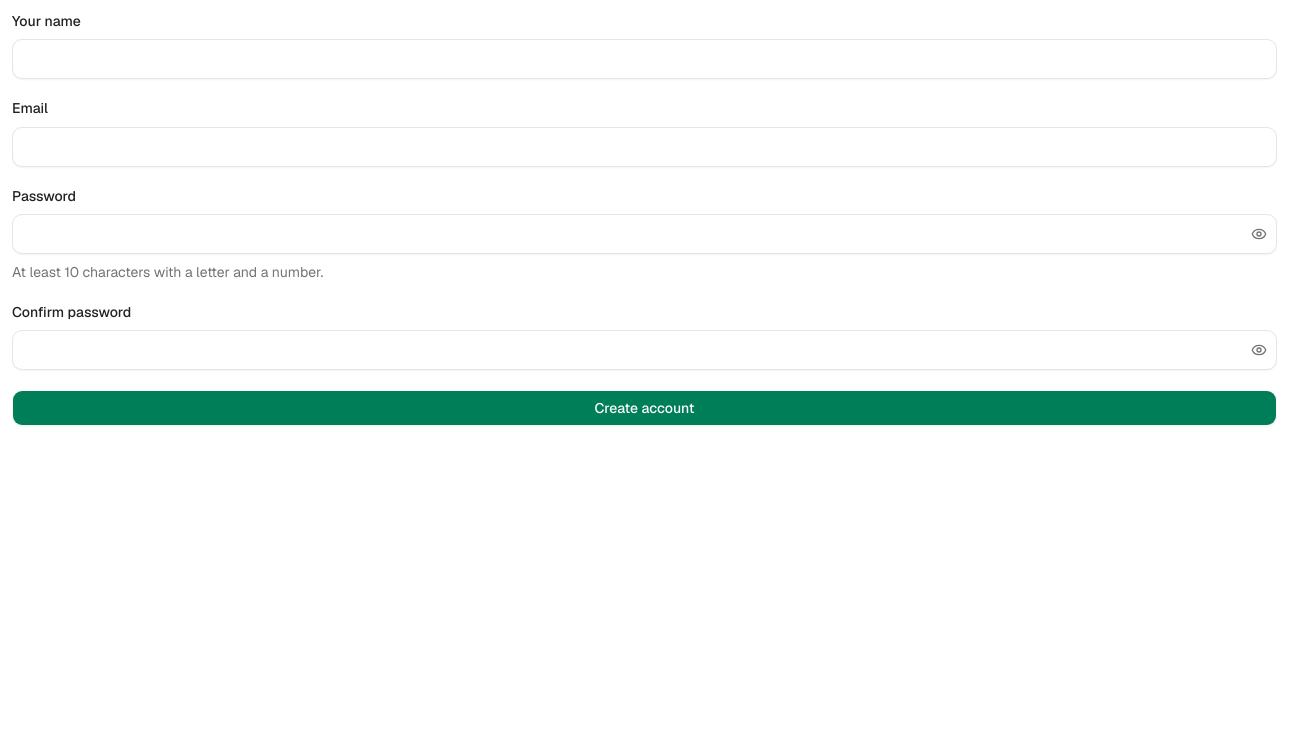
SignupForm rate limiting › shows a countdown and disables the button when rate limited
Type "Asha" into the field labelled "Your name".
click(644, 59); type("Asha")  # box [12, 39, 1277, 79]
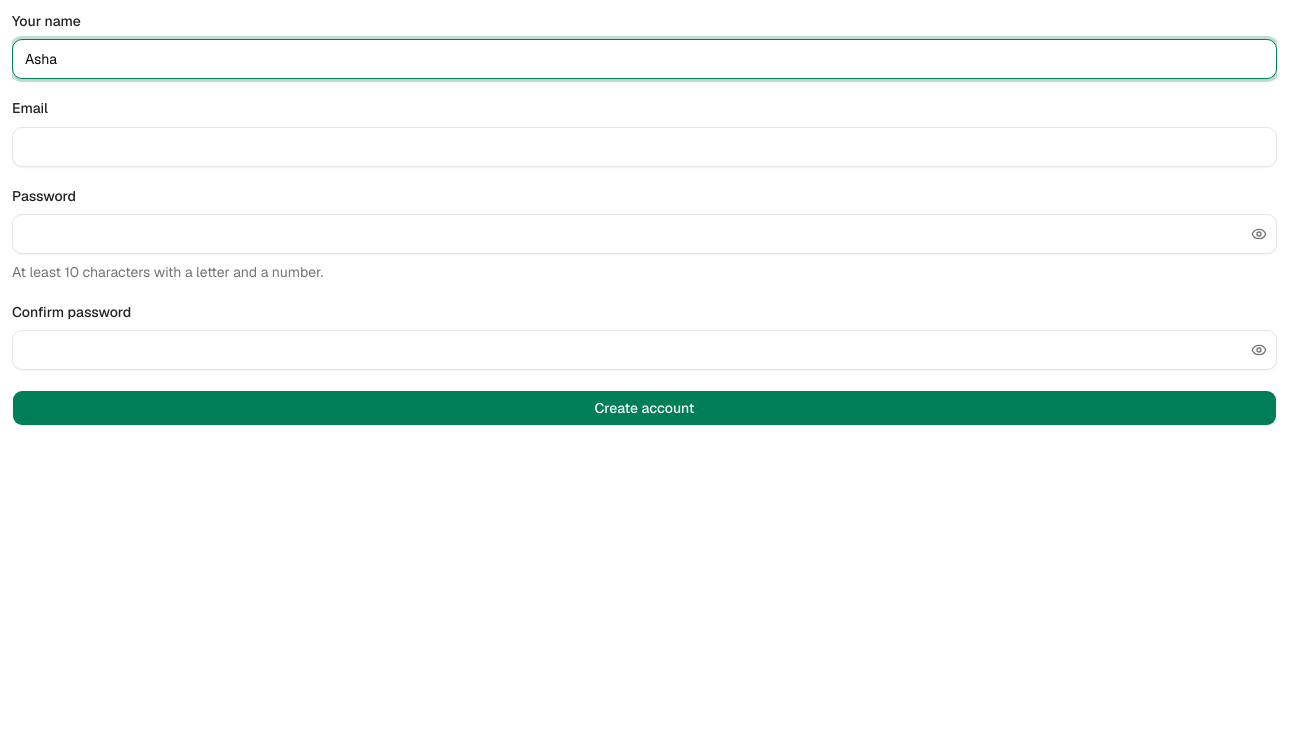
Type "asha@example.com" into the field labelled "Email".
click(644, 146); type("asha@example.com")  # box [12, 126, 1277, 166]
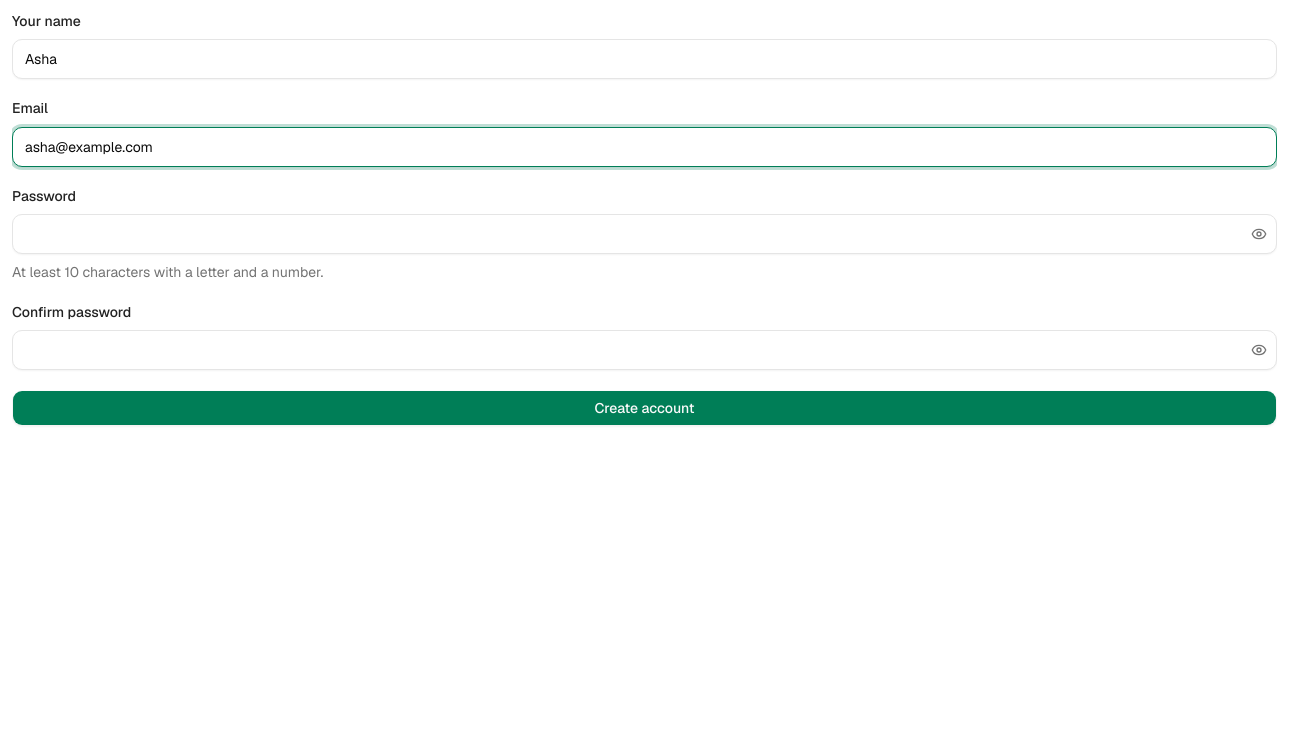
Type "paisa-track-2026" into the password field labelled "Password".
click(644, 234); type("paisa-track-2026")  # box [12, 214, 1277, 254]
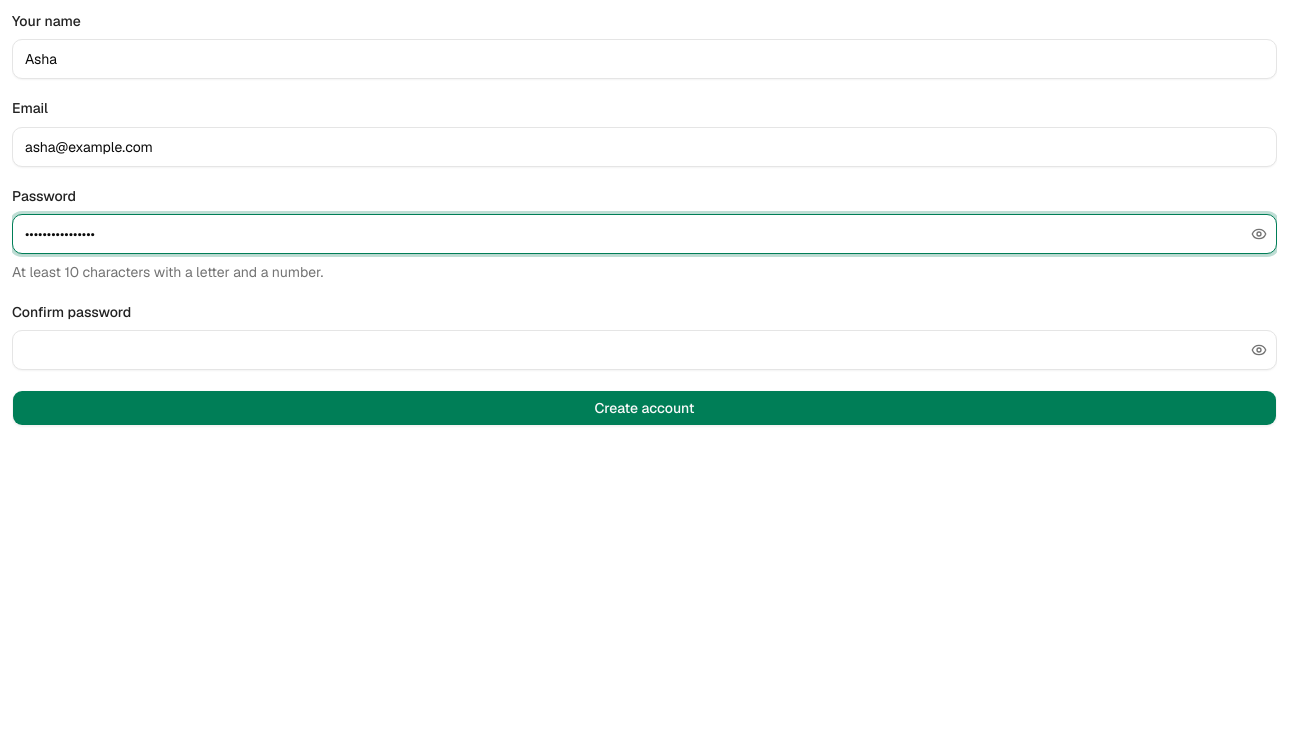
Type "paisa-track-2026" into the password field labelled "Confirm password".
click(644, 350); type("paisa-track-2026")  # box [12, 330, 1277, 370]
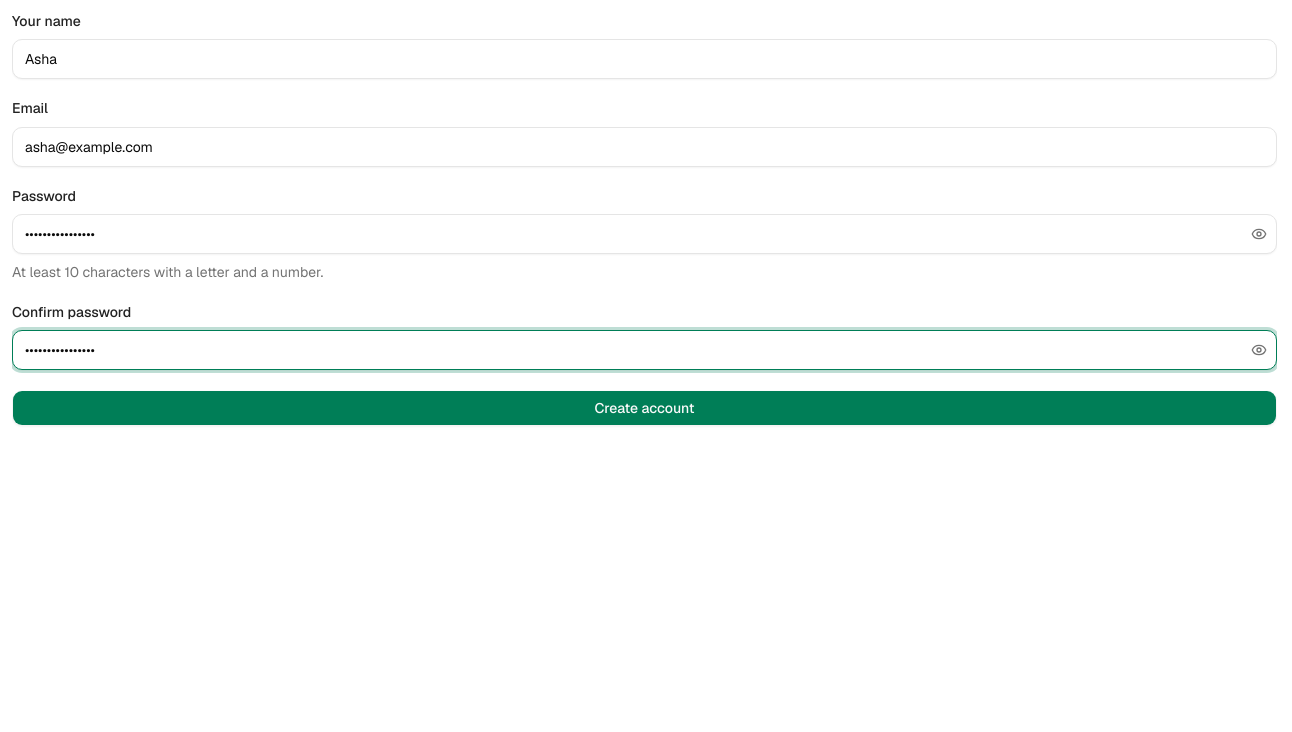
Click the button "Create account".
click(644, 408)  # box [12, 390, 1277, 426]
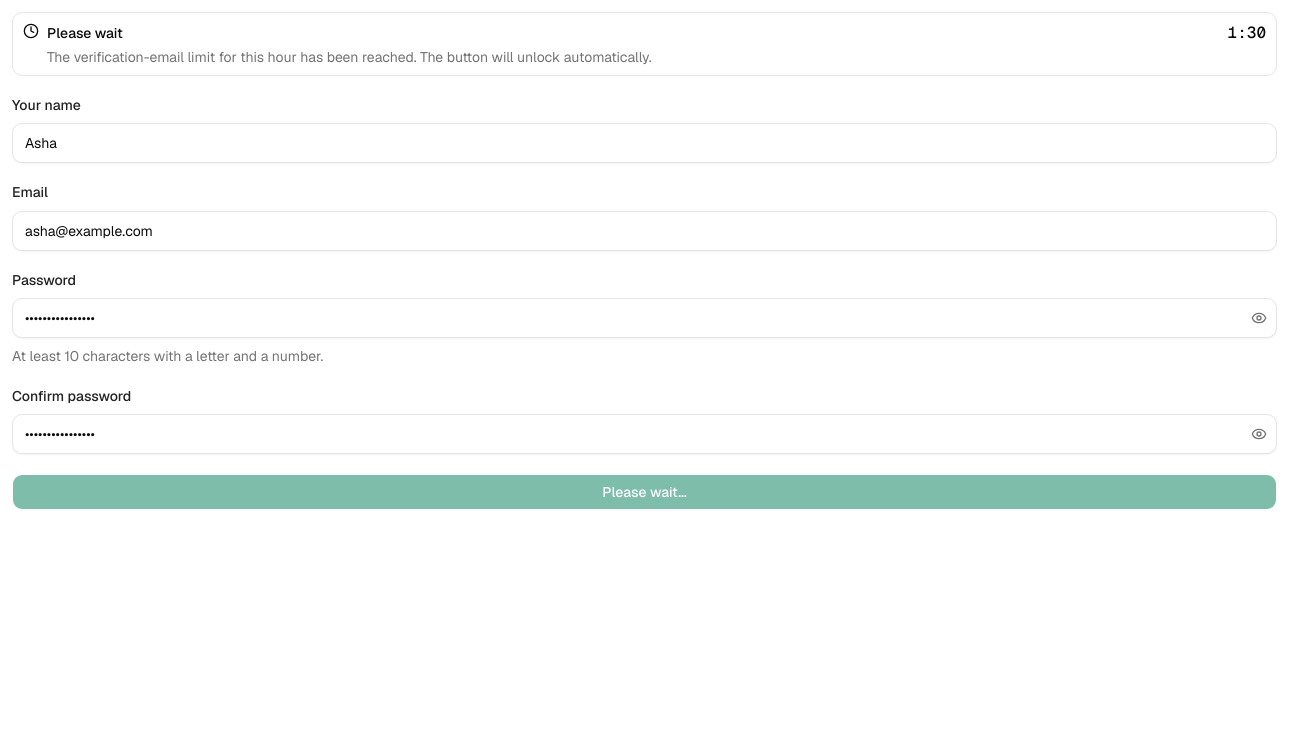
Now the message shows "Please wait", box [47, 24, 123, 42]
Now the button "Please wait…" is disabled, box [12, 474, 1277, 510]
